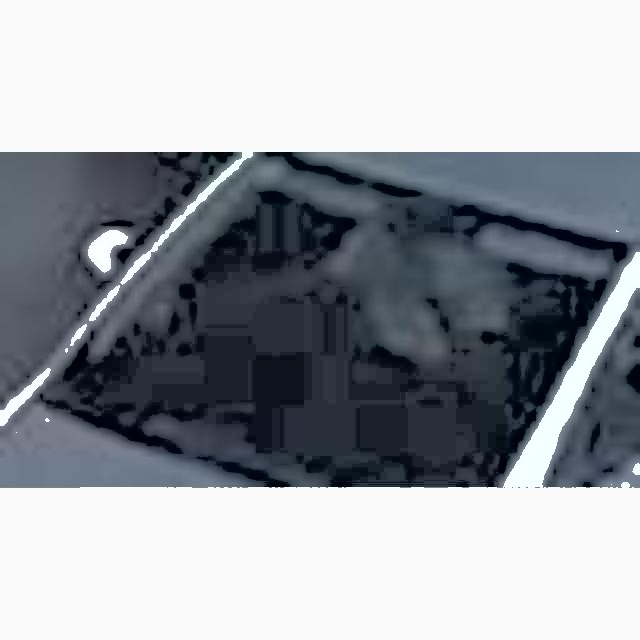pakai: (323, 215, 488, 355)
